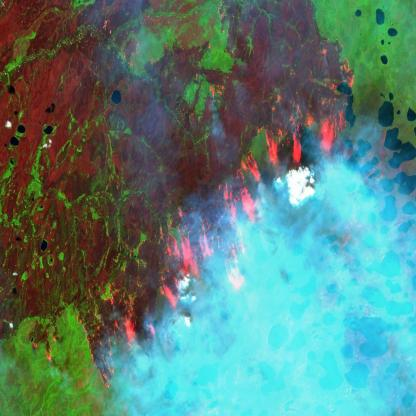fire: (0, 0, 362, 390)
